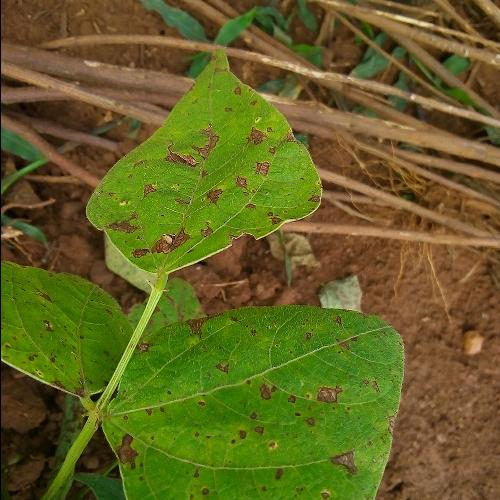hawar: (112, 316, 394, 500), (92, 97, 314, 268), (0, 277, 107, 410)
